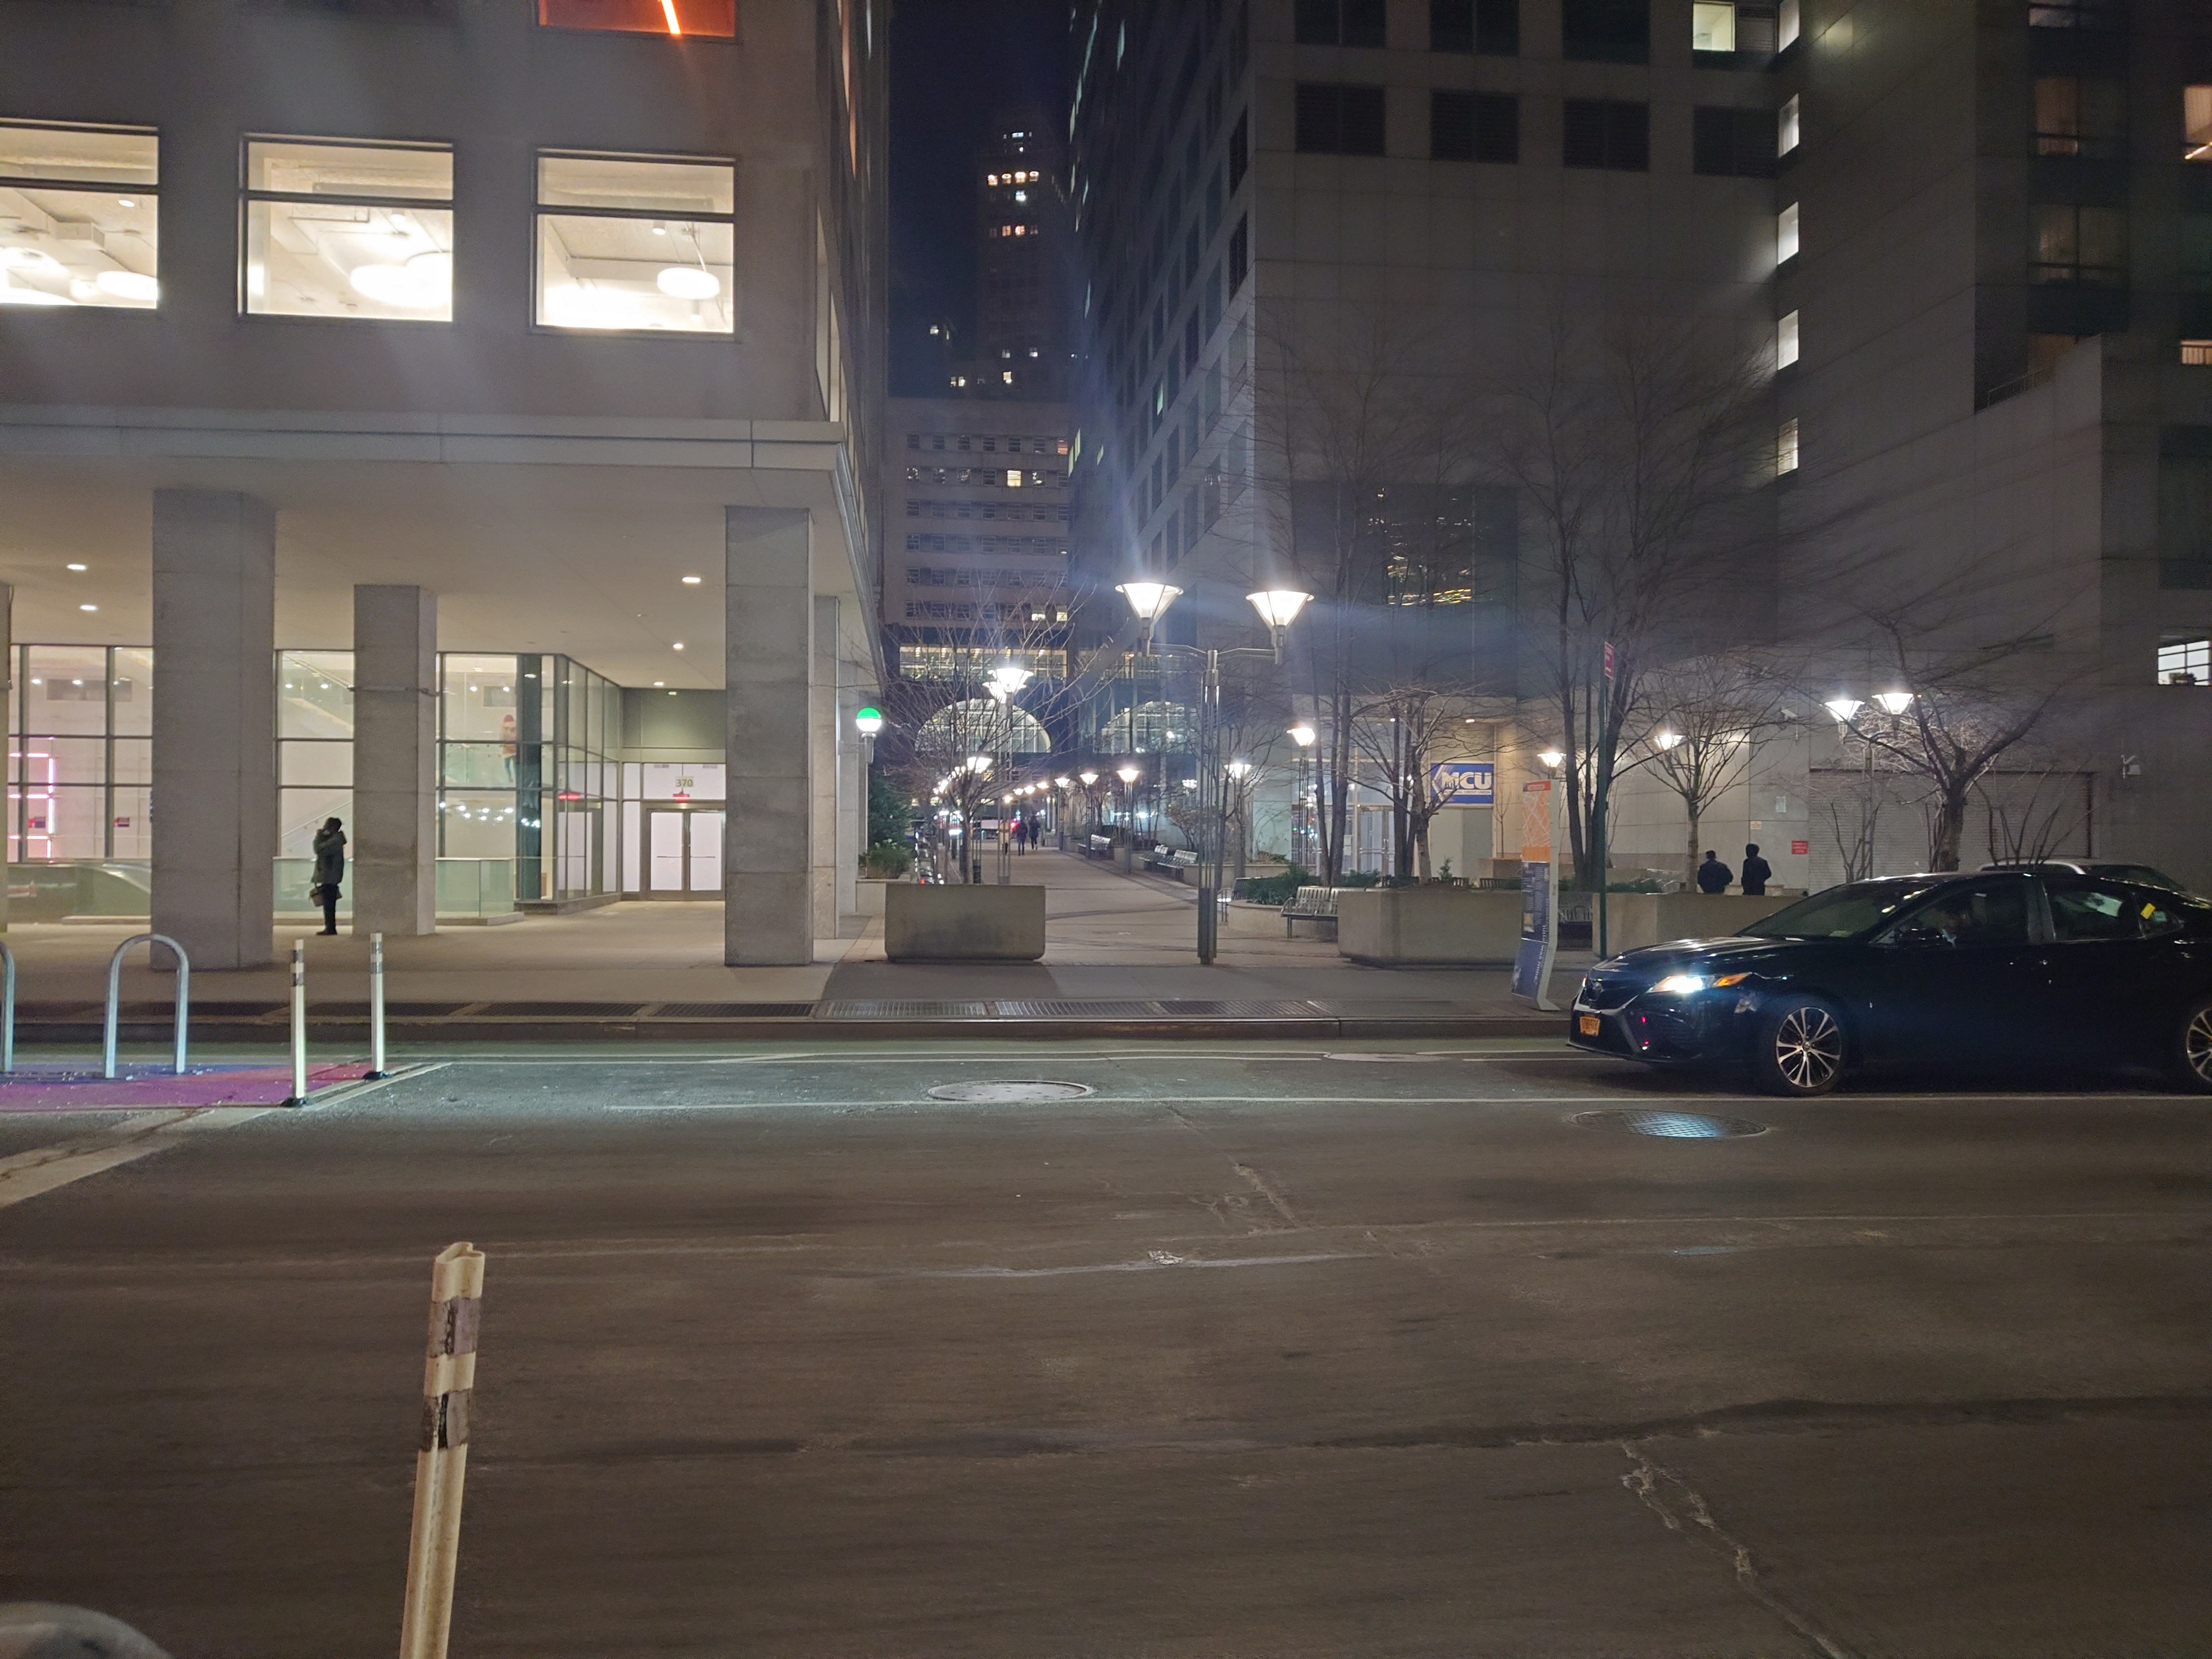car: (1565, 871, 2212, 1098)
person: (307, 818, 345, 938), (1739, 845, 1776, 895), (1694, 847, 1733, 894), (1012, 819, 1028, 856), (1028, 815, 1041, 850)
